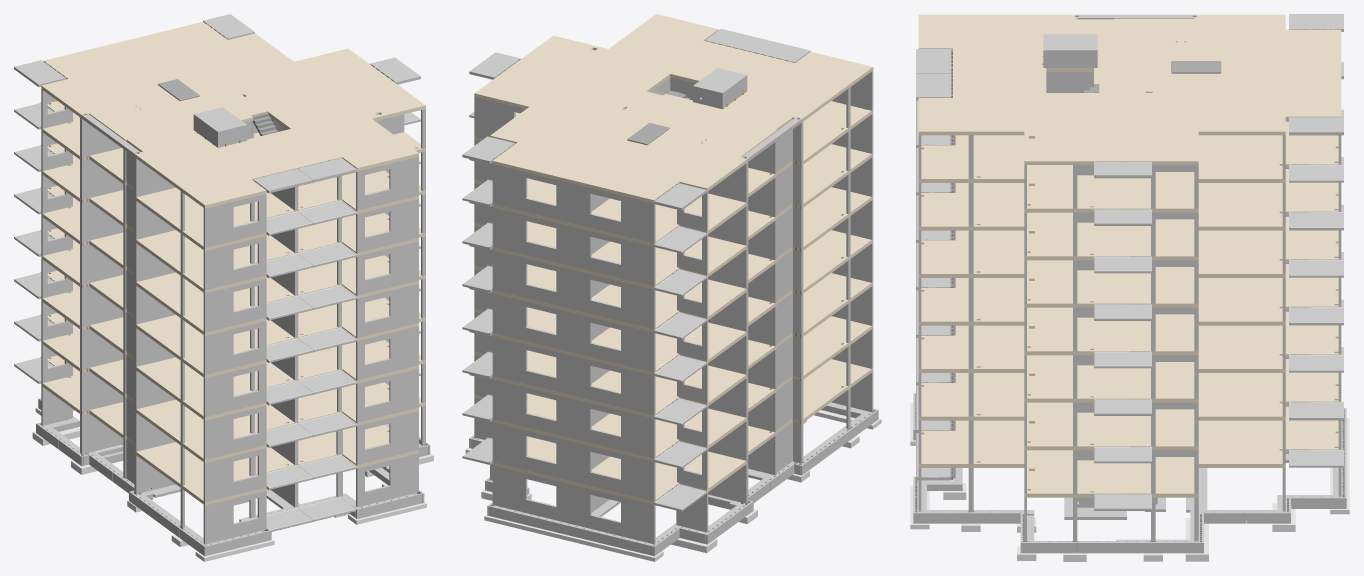
The model's file is NCC_IFC.glb.
3 renders of one model, left to right at view 1: azimuth 30°, elevation 25°; view 2: azimuth 150°, elevation 25°; view 3: azimuth 270°, elevation 25°, orthographic. The views are drawn at different scales.
Visible parts, largest first — view 1: Floor:Betong 220:5036035 (×4), Floor:Betong 220:5035579 (×3), Floor:Betong 220:5034789 (×3), Floor:Betong 220:5033999 (×3), Floor:Betong 220:5033597 (×3), Floor:Betong 220:5034394 (×3), Floor:Betong 220:5035184 (×3), Floor:Betong 220:2684932 (×3), Basic Wall:Bärande yttervägg 150m:3057108, Basic Wall:Bärande yttervägg 150m:2685001, Basic Wall:Bärande yttervägg 150m:3054094, Basic Wall:Bärande yttervägg 150m:2663625 (+60 smaller); view 2: Floor:Betong 220:5036035 (×4), Floor:Betong 220:5035579 (×2), Floor:Betong 220:5033597 (×2), Floor:Betong 220:2684932 (×2), Floor:Betong 220:5035184 (×2), Floor:Betong 220:5034394 (×2), Floor:Betong 220:5033999 (×2), Floor:Betong 220:5034789 (×2), Basic Wall:Bärande yttervägg 150m:2684991, Basic Wall:Bärande yttervägg 150m:2663615, Basic Wall:Bärande yttervägg 150m:755800, Basic Wall:Bärande yttervägg 150m:3054084 (+68 smaller); view 3: Floor:Betong 220:5036035 (×4), Floor:Betong 220:5035184 (×3), Floor:Betong 220:5033597 (×3), Floor:Betong 220:5034394 (×3), Floor:Betong 220:5035579 (×3), Floor:Betong 220:5034789 (×3), Floor:Betong 220:5033999 (×3), Floor:Betong 220:2684932 (×3), Floor:Grundbalk 360:5010015, Foundation Slab:Väggsula 160 pl.gj.:5014527, Floor:Förtillverkat bjälklag 200:2058118, BALKONG TYP 11:BALKONG TYP 2:5100284 (+30 smaller).
Boxes of the visible parts, x1,y1,x2,y2 form: Floor:Betong 220:5036035 (×4): [41, 22, 425, 208]; Floor:Betong 220:5035579 (×3): [41, 101, 425, 251]; Floor:Betong 220:5034789 (×3): [41, 185, 425, 335]; Floor:Betong 220:5033999 (×3): [41, 270, 425, 420]; Floor:Betong 220:5033597 (×3): [41, 313, 425, 462]; Floor:Betong 220:5034394 (×3): [41, 228, 425, 378]; Floor:Betong 220:5035184 (×3): [41, 143, 425, 293]; Floor:Betong 220:2684932 (×3): [41, 355, 425, 505]; Basic Wall:Bärande yttervägg 150m:3057108: [203, 236, 266, 289]; Basic Wall:Bärande yttervägg 150m:2685001: [203, 448, 266, 501]; Basic Wall:Bärande yttervägg 150m:3054094: [203, 321, 266, 374]; Basic Wall:Bärande yttervägg 150m:2663625: [203, 406, 266, 459]; Floor:Betong 220:5036035 (×4): [474, 14, 873, 203]; Floor:Betong 220:5035579 (×2): [490, 101, 873, 246]; Floor:Betong 220:5033597 (×2): [490, 316, 873, 461]; Floor:Betong 220:2684932 (×2): [490, 359, 873, 504]; Floor:Betong 220:5035184 (×2): [490, 144, 873, 289]; Floor:Betong 220:5034394 (×2): [490, 230, 873, 375]; Floor:Betong 220:5033999 (×2): [490, 273, 873, 418]; Floor:Betong 220:5034789 (×2): [490, 187, 873, 332]; Basic Wall:Bärande yttervägg 150m:2684991: [492, 422, 655, 501]; Basic Wall:Bärande yttervägg 150m:2663615: [492, 379, 655, 458]; Basic Wall:Bärande yttervägg 150m:755800: [492, 465, 655, 544]; Basic Wall:Bärande yttervägg 150m:3054084: [492, 293, 655, 371]; Floor:Betong 220:5036035 (×4): [918, 14, 1341, 164]; Floor:Betong 220:5035184 (×3): [918, 169, 1340, 260]; Floor:Betong 220:5033597 (×3): [918, 359, 1340, 450]; Floor:Betong 220:5034394 (×3): [918, 264, 1340, 355]; Floor:Betong 220:5035579 (×3): [918, 121, 1340, 212]; Floor:Betong 220:5034789 (×3): [918, 216, 1340, 307]; Floor:Betong 220:5033999 (×3): [918, 311, 1340, 402]; Floor:Betong 220:2684932 (×3): [918, 406, 1340, 497]; Floor:Grundbalk 360:5010015: [917, 420, 1342, 541]; Foundation Slab:Väggsula 160 pl.gj.:5014527: [1064, 454, 1288, 519]; Floor:Förtillverkat bjälklag 200:2058118: [1043, 34, 1097, 53]; BALKONG TYP 11:BALKONG TYP 2:5100284: [1289, 402, 1343, 420].
Size of the model in its own units: 19.98 by 23.97 by 22.62.
